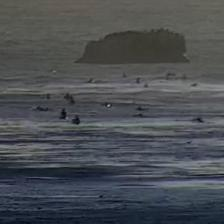surfer: (31, 107, 50, 112), (60, 108, 68, 119), (190, 117, 204, 123), (72, 116, 81, 125), (101, 102, 111, 108), (133, 113, 144, 118), (85, 78, 94, 84), (69, 96, 75, 104), (135, 76, 141, 84), (45, 94, 52, 100), (64, 93, 71, 99), (181, 74, 188, 80), (190, 82, 198, 87), (167, 72, 176, 76), (136, 106, 143, 111), (144, 83, 149, 88), (122, 73, 128, 77)
